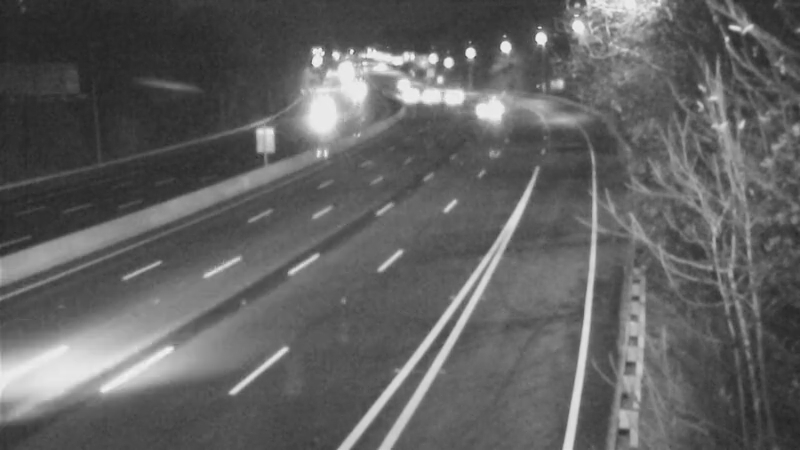vehicle: (375, 56, 425, 106), (403, 68, 453, 118), (387, 73, 437, 123), (426, 71, 476, 121), (457, 79, 507, 129), (295, 87, 345, 137)
